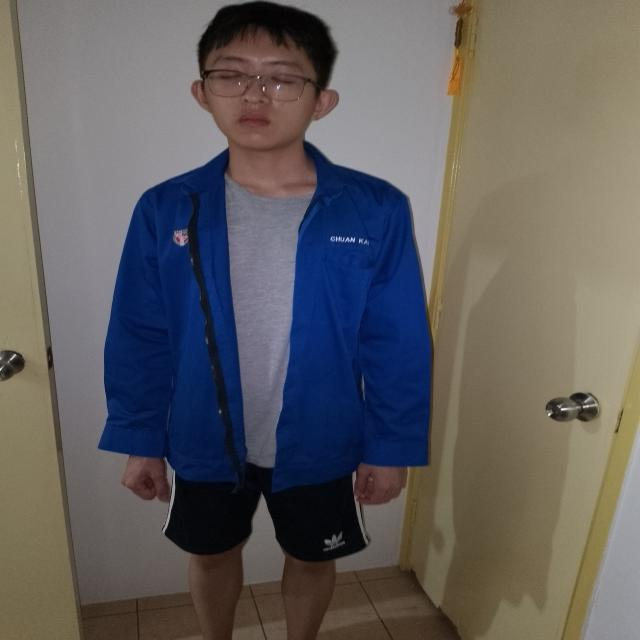person_with_labcoat: (99, 0, 431, 640)
